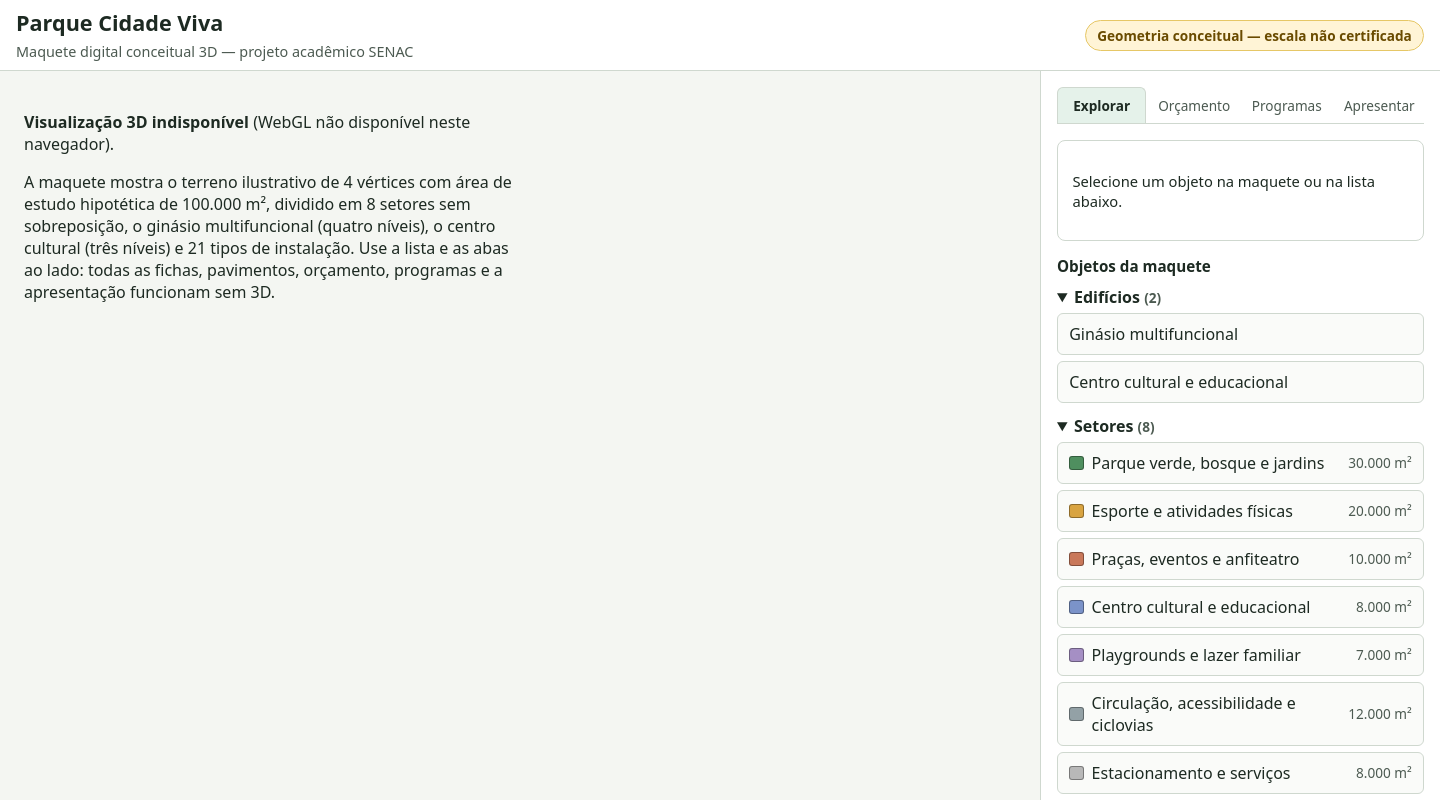
Test: abas: orçamento, programas e apresentação › orçamento mostra a estimativa em faixas, equipe e financiamento, separados do rastreável
Click the tab "Orçamento" at {"x": 1194, "y": 106}, box [1150,88,1239,124]
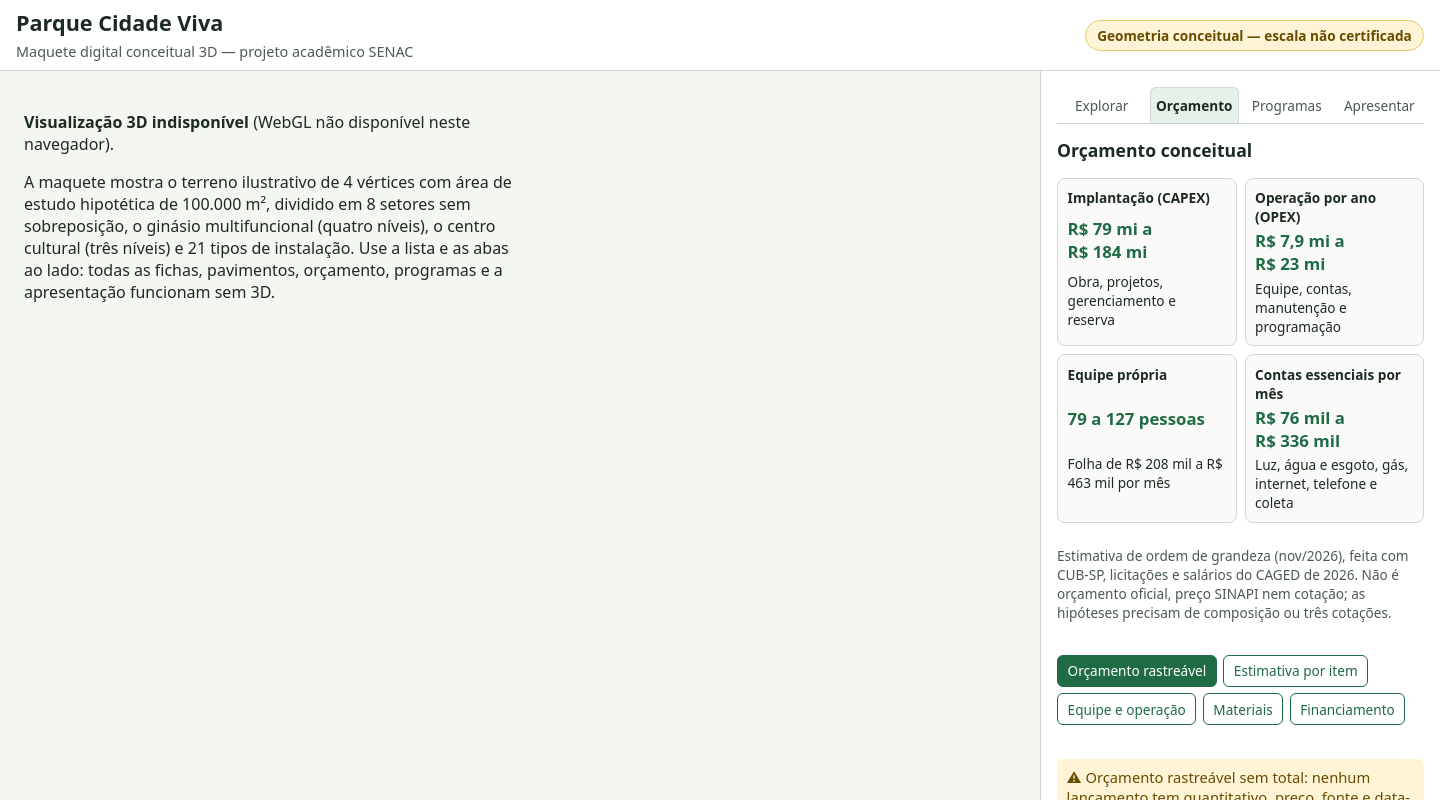
Check: the element with test id "estimativa-capex" reads "R$ 79 mi a R$ 184 mi", box [1068,217,1152,263]
Check: the element with test id "estimativa-opex" reads "R$ 7,9 mi a R$ 23 mi", box [1255,229,1345,275]
Check: the element with test id "estimativa-contas" reads "R$ 76 mil a R$ 336 mil", box [1255,406,1345,452]
Click the button "Estimativa por item" at {"x": 1296, "y": 671}, box [1223,655,1368,687]
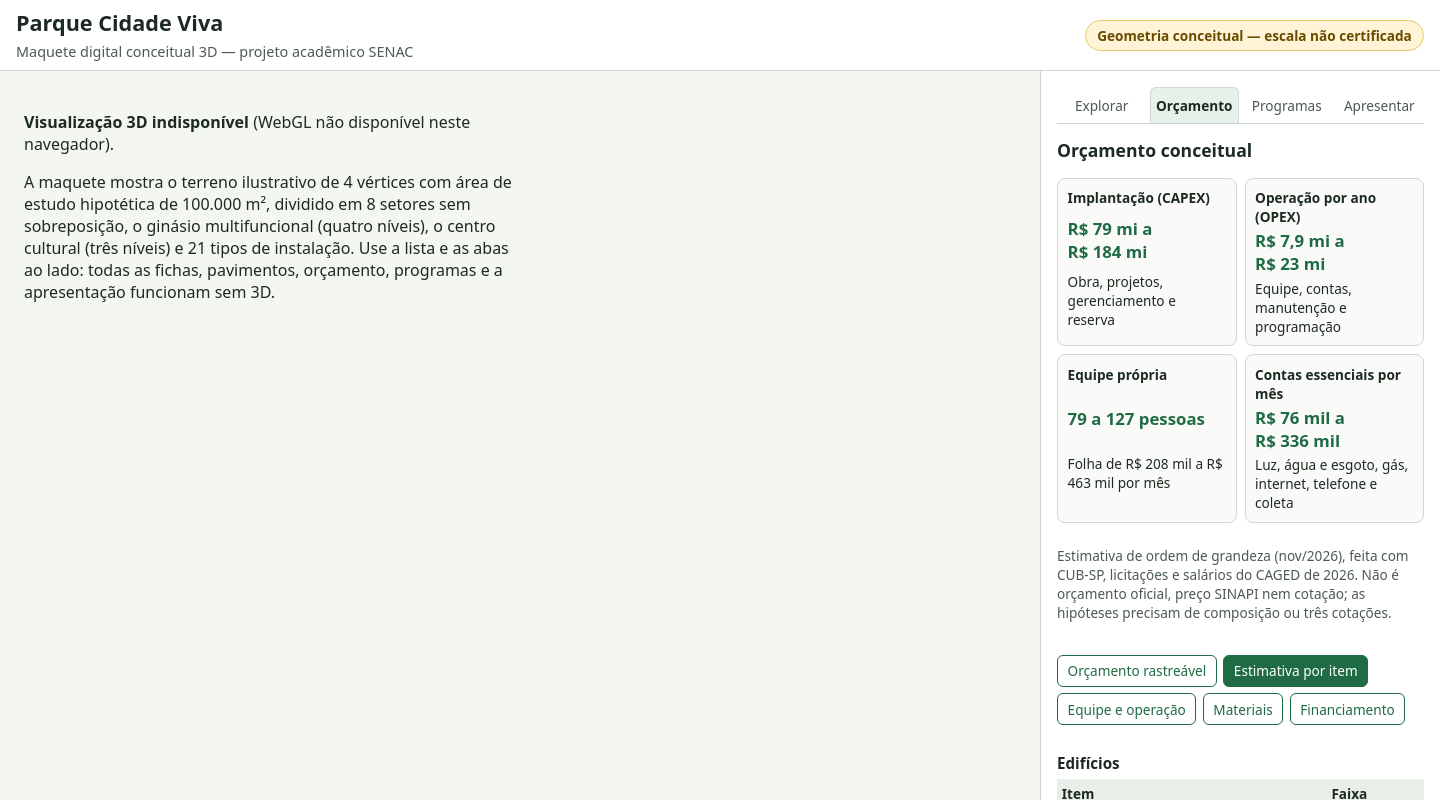
Click the button "Equipe e operação" at {"x": 1127, "y": 709}, box [1057,693,1196,726]
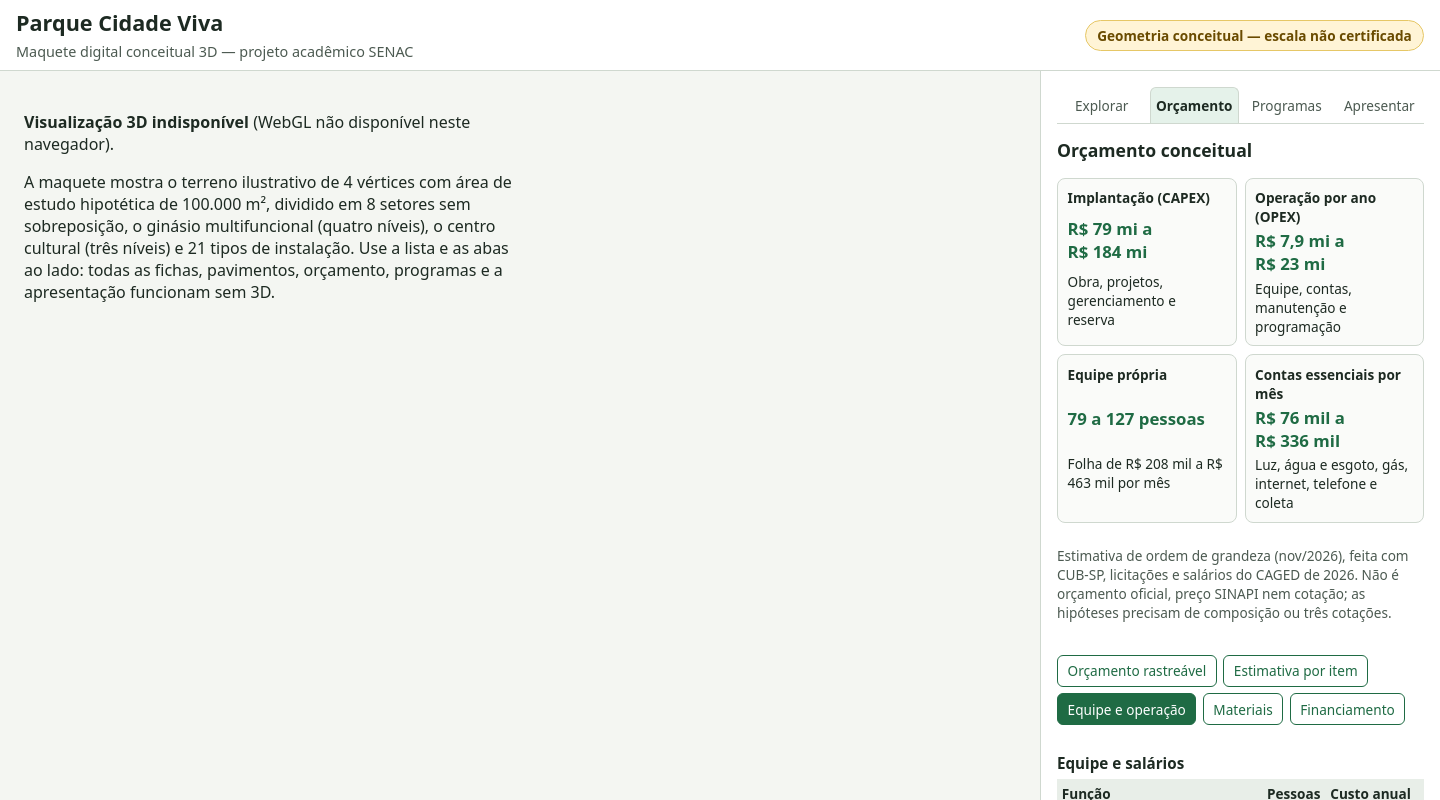
Click the button "Materiais" at {"x": 1243, "y": 709}, box [1203,693,1283,726]
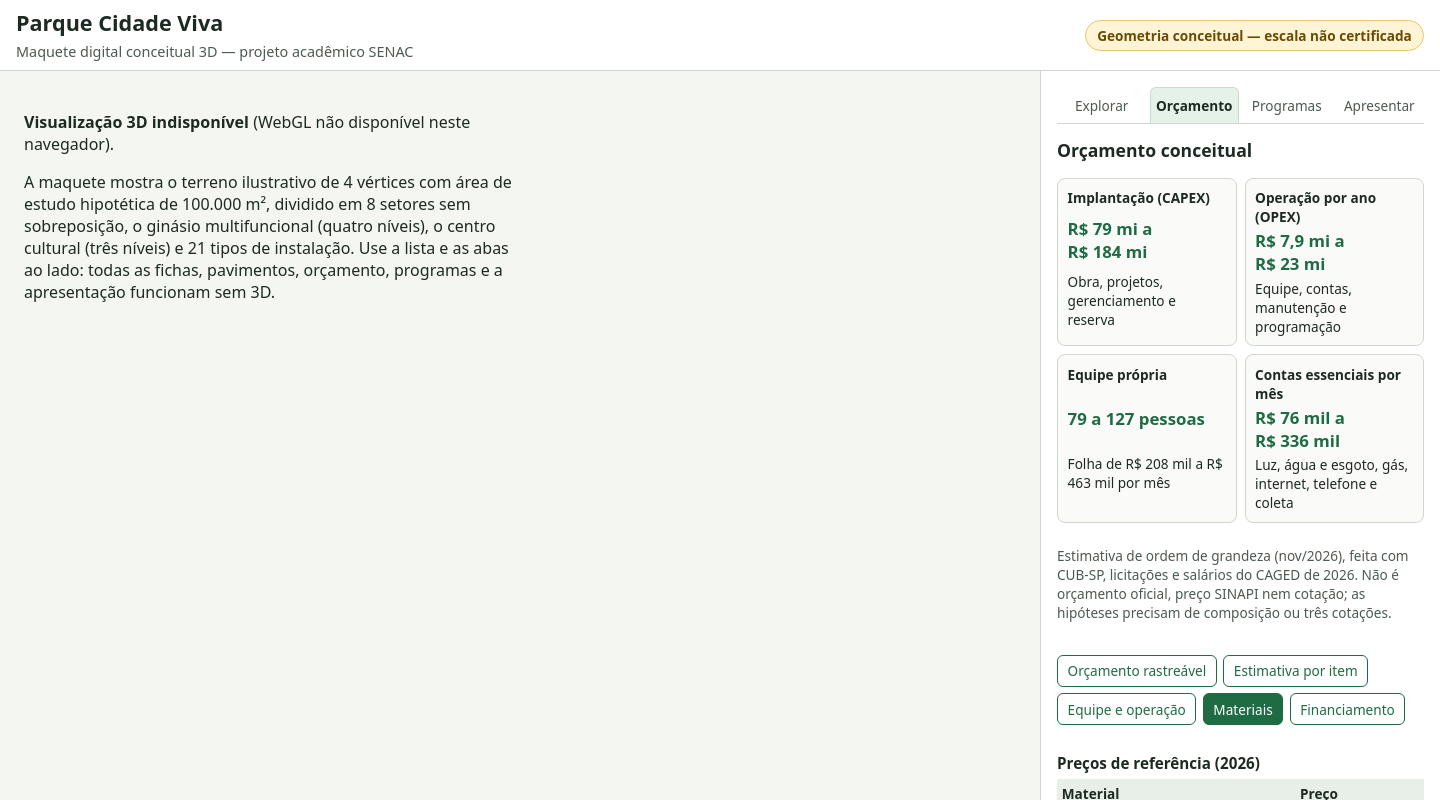
Click the button "Financiamento" at {"x": 1348, "y": 709}, box [1290,693,1405,726]
(page scrolled)
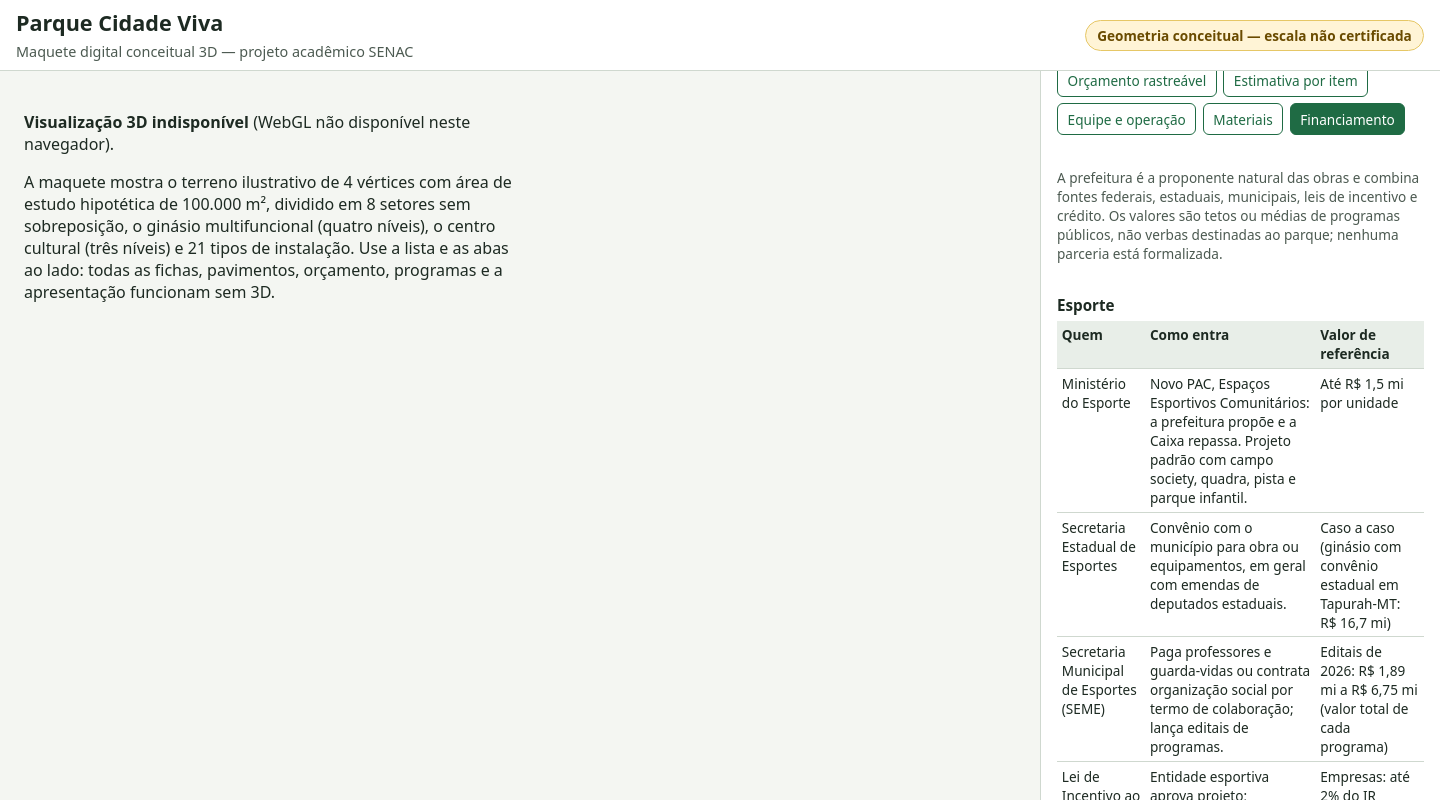
Check: the text "Ministério do Esporte" is shown, box [1057,369,1145,512]
